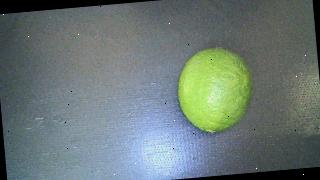EXPORTACION: (175, 44, 257, 135)
